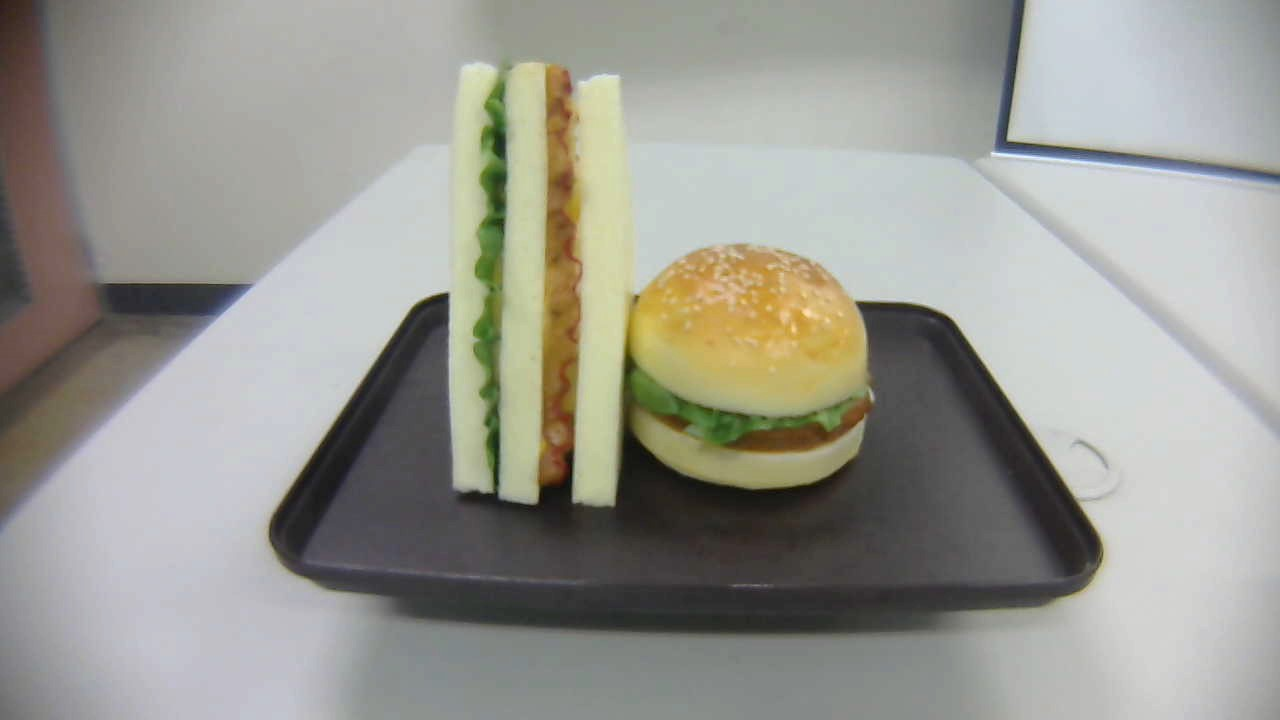hamburger: (630, 243, 877, 494)
sandwich: (446, 60, 631, 507)
